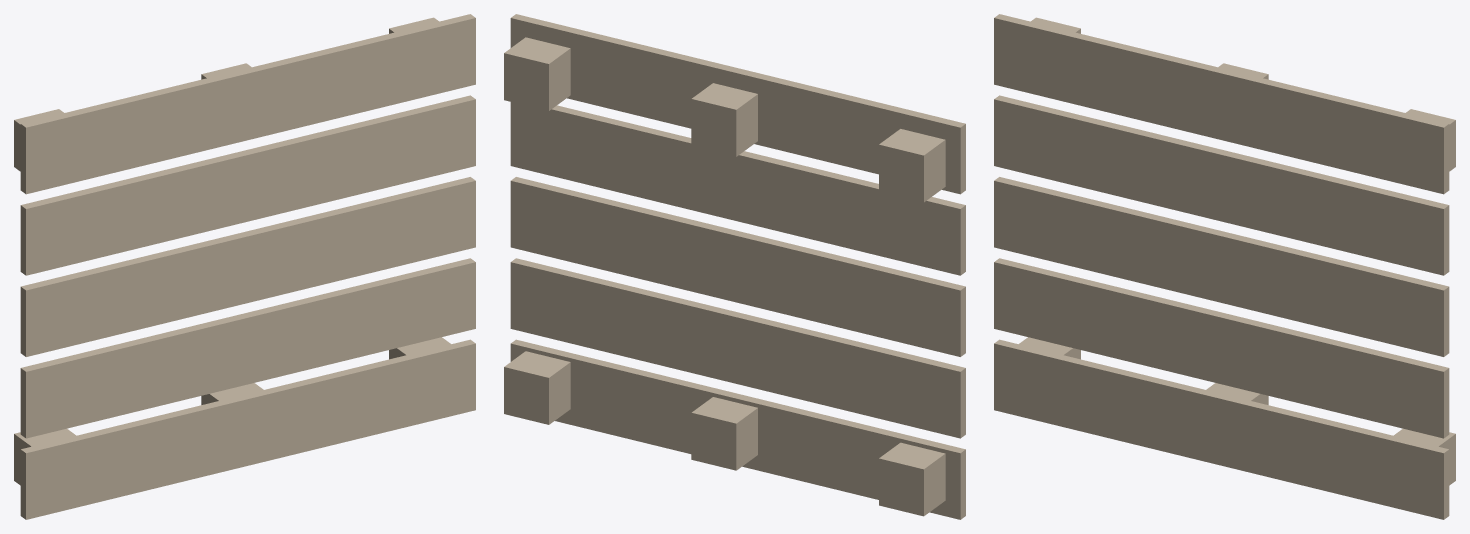
File: palleteuro.glb
3 views of the same model, side by side, from view 1: azimuth 30°, elevation 25°; view 2: azimuth 150°, elevation 25°; view 3: azimuth 330°, elevation 25° (orthographic).
Parts seen in each view (by area): view 1: world; view 2: world; view 3: world.
Part boxes in pixels (x1,y1,x2,y2): world: [14, 14, 475, 519]; world: [504, 14, 965, 519]; world: [994, 14, 1455, 519].
Bounding box in the file's own units: 1.2 × 1 × 0.125.
